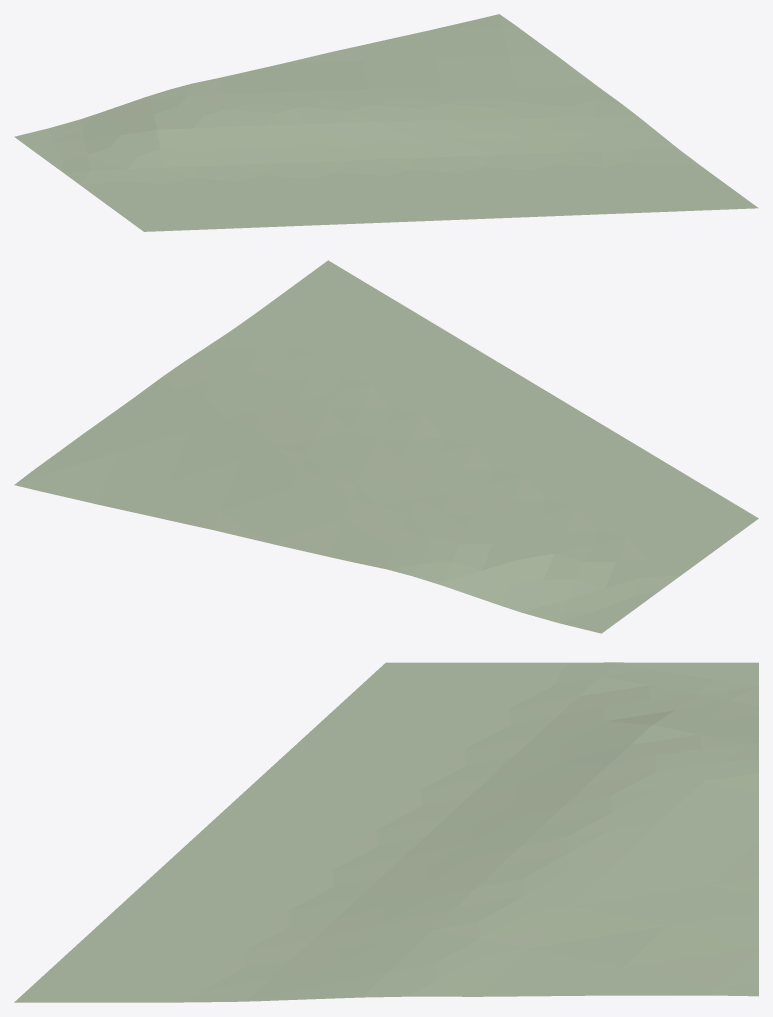
The model's file is SM_MPRR_Terrain_-5_-2.fbx.
The picture shows the model from 3 angles, top to bottom: view 1: azimuth 30°, elevation 25°; view 2: azimuth 150°, elevation 25°; view 3: azimuth 270°, elevation 25°; orthographic projection. The views are drawn at different scales.
Visible parts, largest first — view 1: SM_MPRR_Terrain_-5_-2; view 2: SM_MPRR_Terrain_-5_-2; view 3: SM_MPRR_Terrain_-5_-2.
Boxes of the visible parts, x1,y1,x2,y2 form: SM_MPRR_Terrain_-5_-2: [14, 14, 758, 231]; SM_MPRR_Terrain_-5_-2: [14, 260, 758, 633]; SM_MPRR_Terrain_-5_-2: [14, 662, 758, 1002].
Bounding box in the file's own units: 15000 × 13892 × 304.
